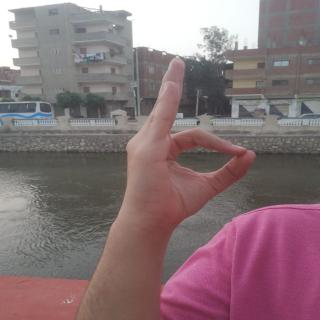Space: (118, 50, 259, 222)
